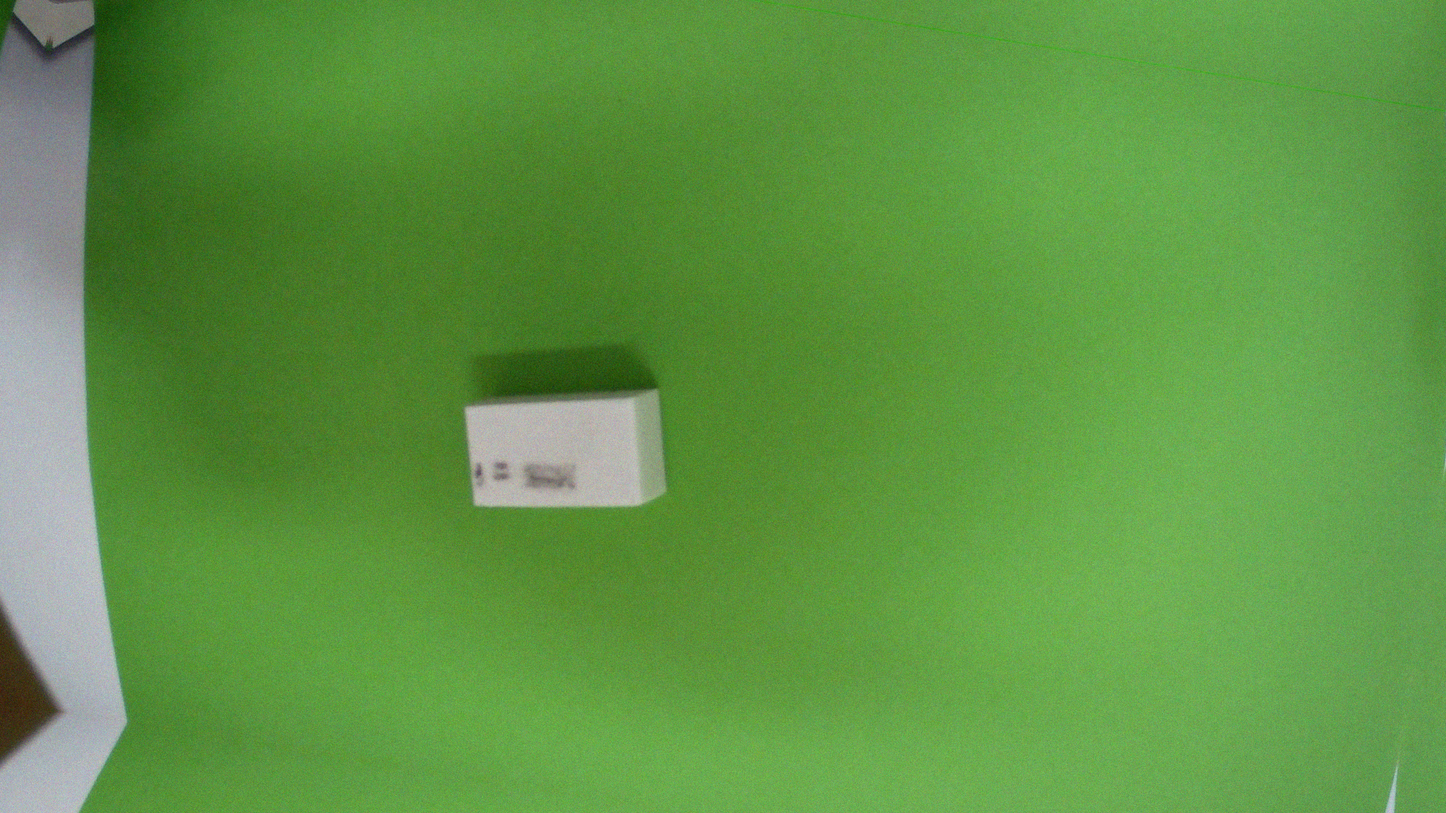gom: (450, 352, 681, 543)
